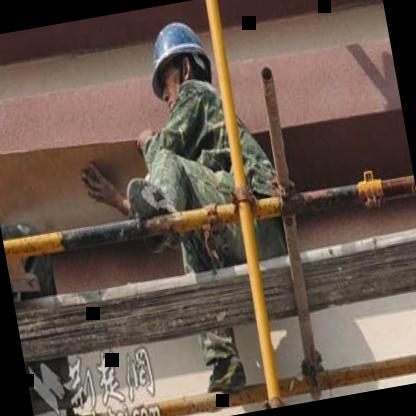helmet: (133, 2, 223, 123)
